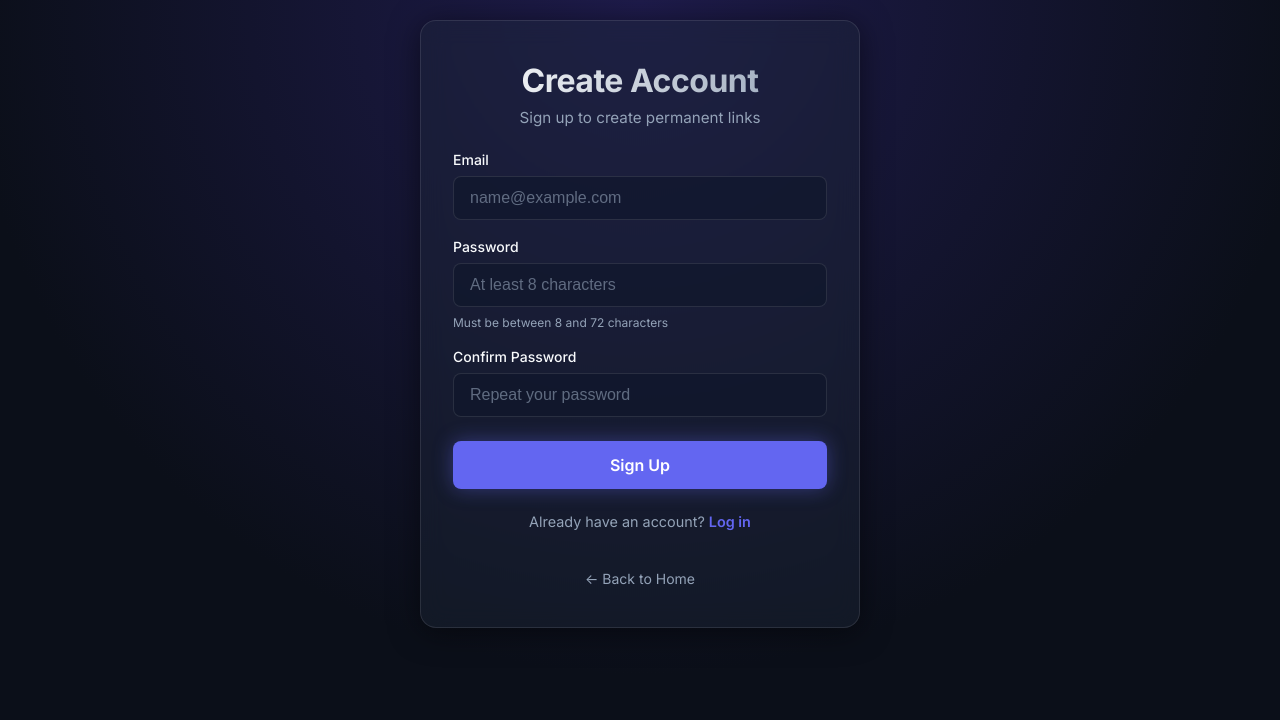
Test: SignupPage Component › validates password length under 8 characters
Type "user@example.com" into the field labelled "Email" at point(640, 198), box 453,176 -> 827,220
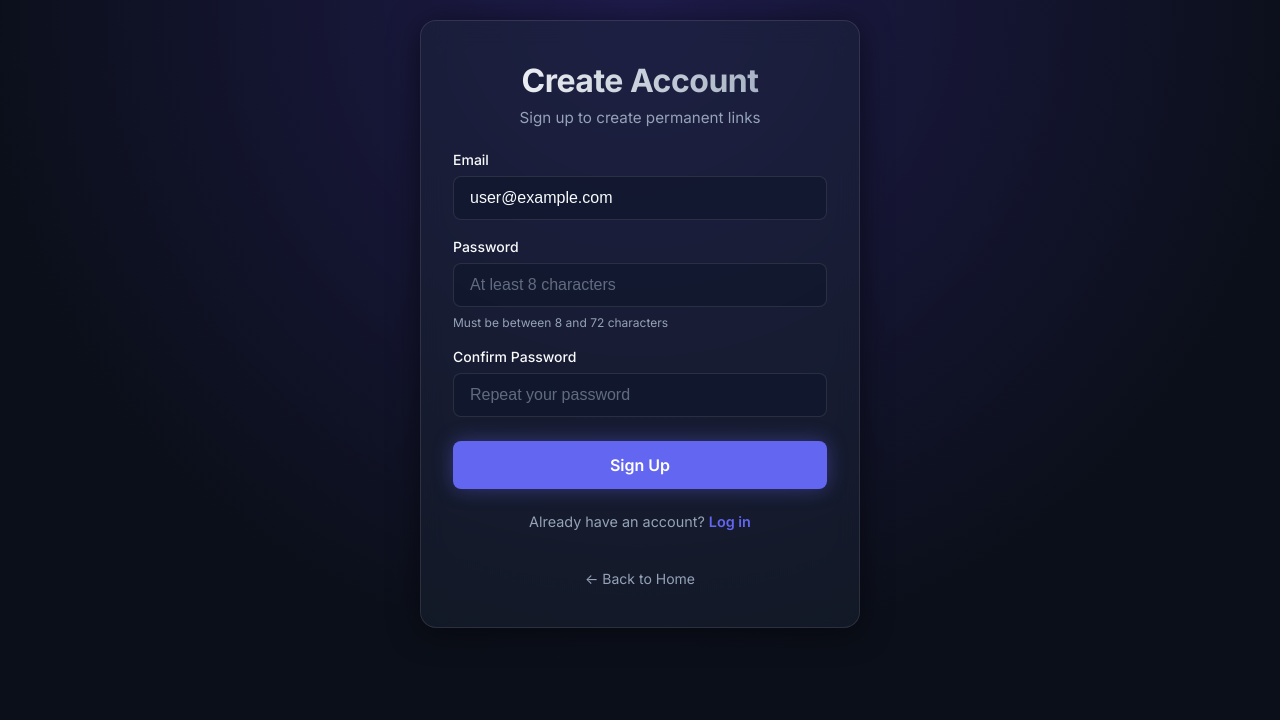
Type "short" into the password field labelled "Password" at point(640, 285), box 453,263 -> 827,307
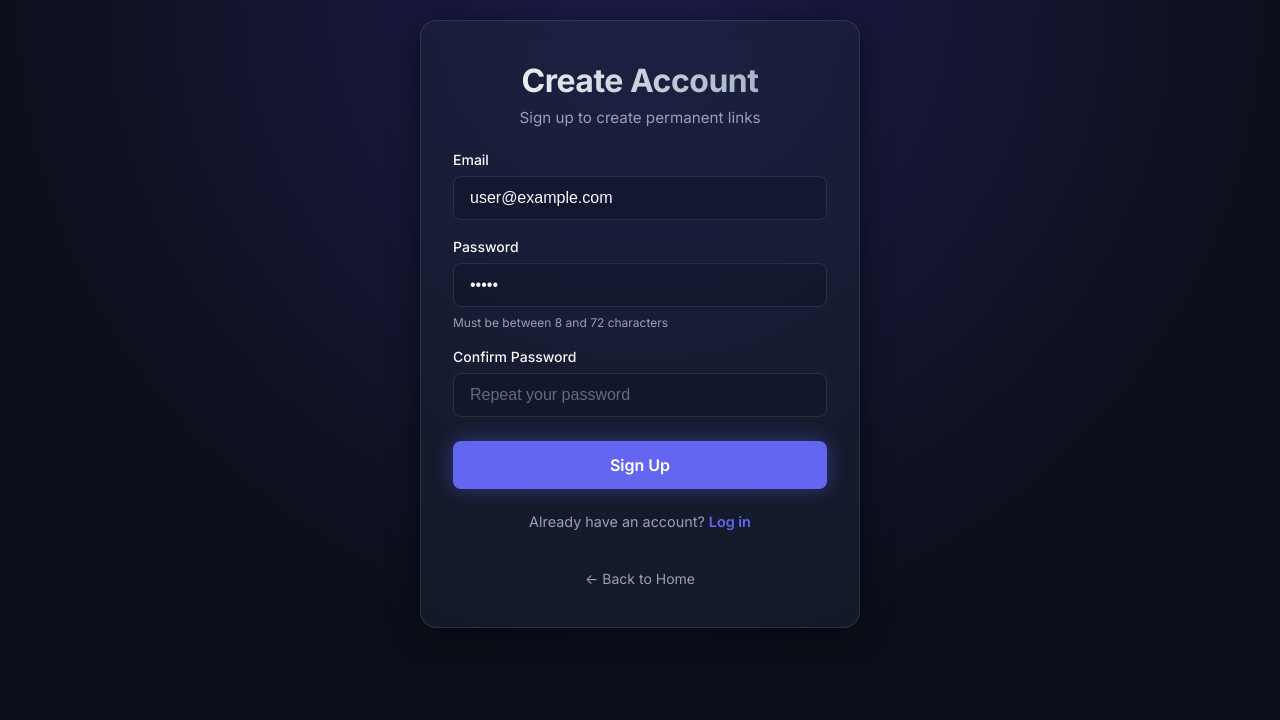
Type "short" into the password field labelled "Confirm Password" at point(640, 395), box 453,373 -> 827,417
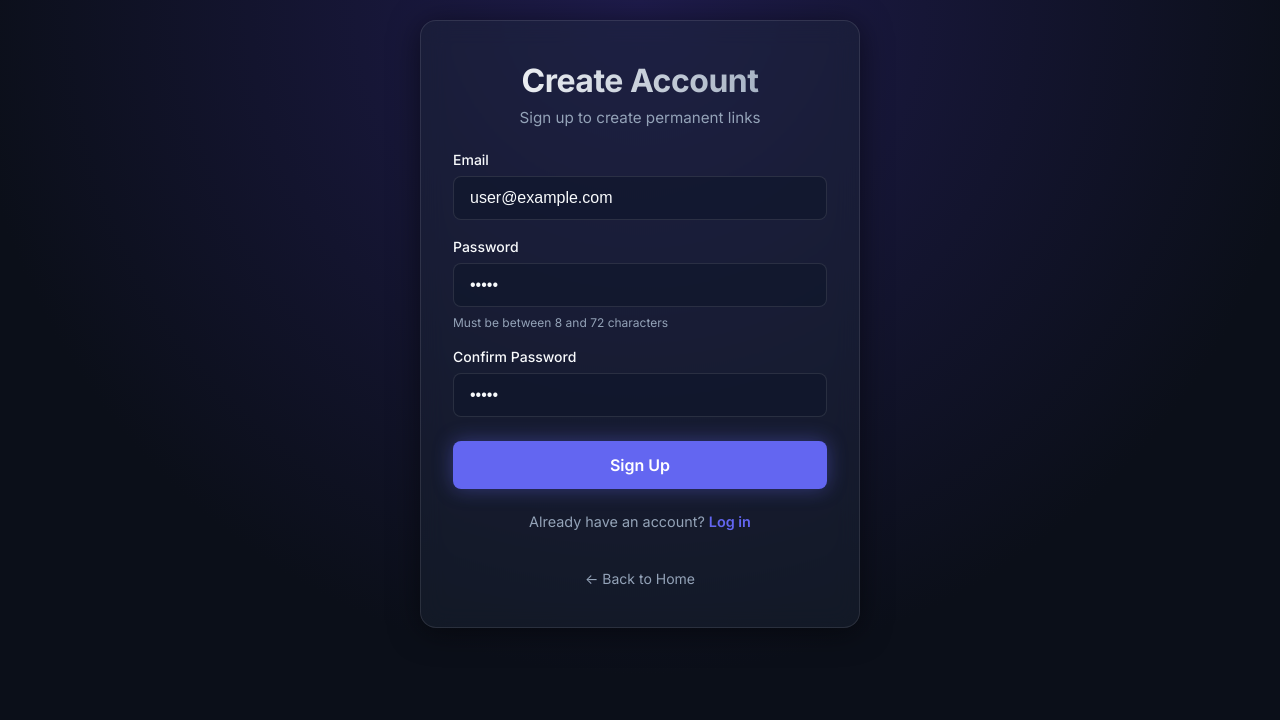
Click the button "Sign Up" at point(640, 465), box 453,441 -> 827,489
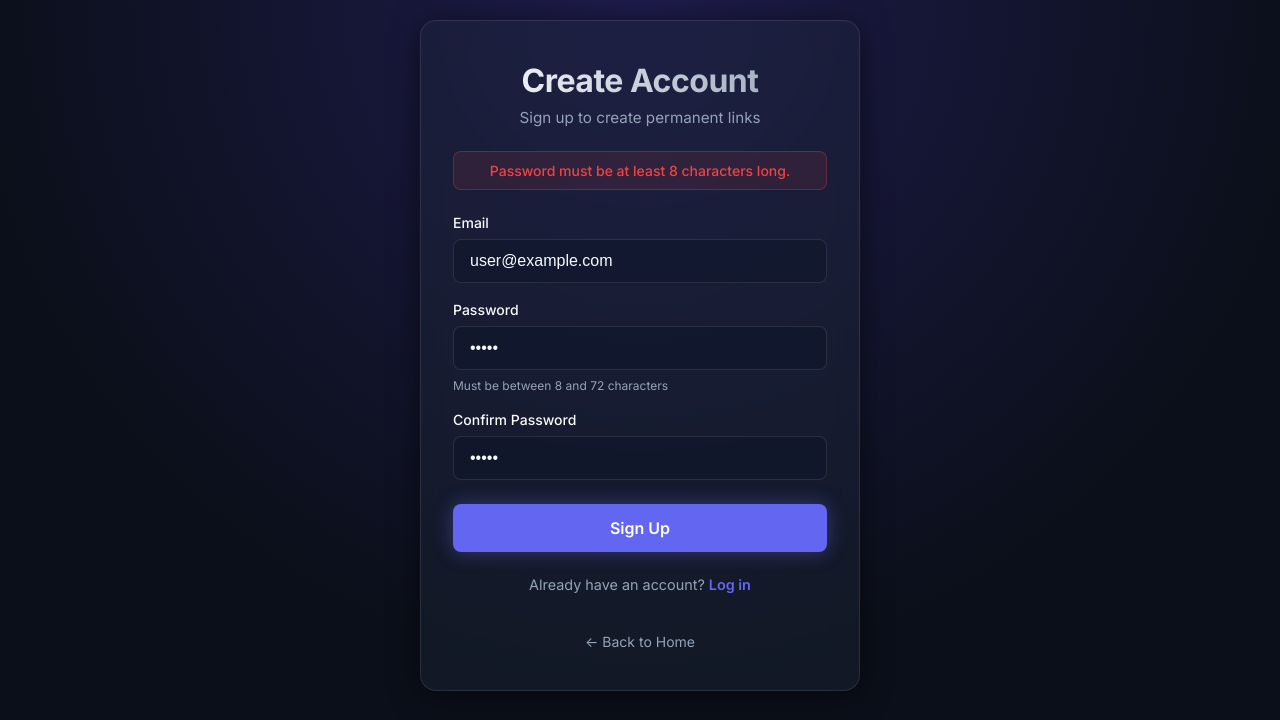
expect the text "Password must be at least 8 characters long." is shown: met, box 453,151 -> 827,190
